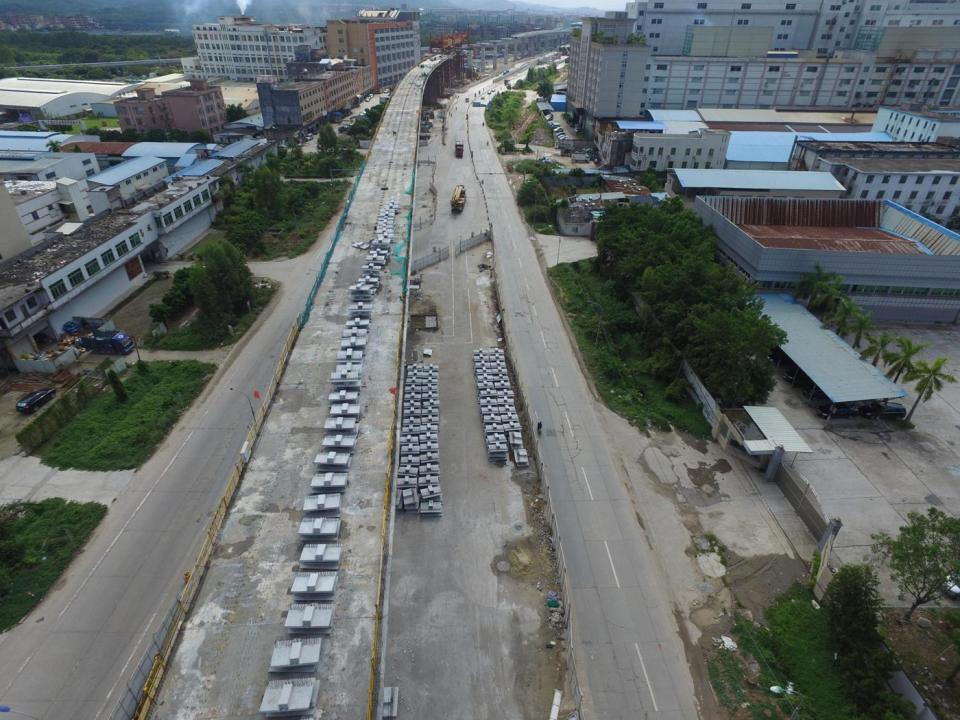bus: (465, 98, 469, 102)
car: (15, 388, 56, 414), (806, 383, 843, 400), (785, 368, 822, 384), (765, 348, 801, 364), (817, 406, 860, 418), (593, 158, 606, 165), (555, 132, 565, 136), (554, 128, 563, 132), (384, 88, 390, 93), (546, 116, 553, 120), (558, 134, 565, 138), (559, 137, 568, 140), (480, 95, 484, 99), (545, 115, 553, 117), (549, 122, 556, 124), (488, 92, 491, 94), (492, 89, 494, 91)
truck: (80, 328, 134, 354), (572, 152, 590, 163), (456, 139, 464, 157), (338, 126, 353, 134), (503, 69, 510, 77)
van: (860, 401, 906, 421), (305, 133, 313, 141), (552, 123, 560, 129), (568, 122, 574, 127), (575, 128, 580, 132)
